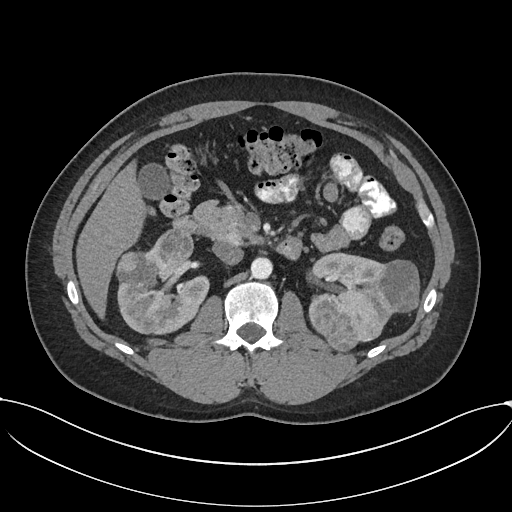Lesion: (371, 255, 423, 316), (115, 251, 160, 293)
